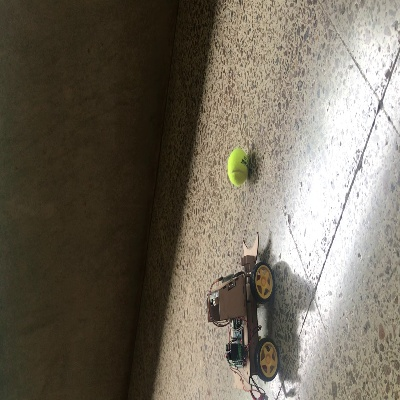Ball: (227, 148, 248, 186)
Robot: (207, 232, 280, 392)
